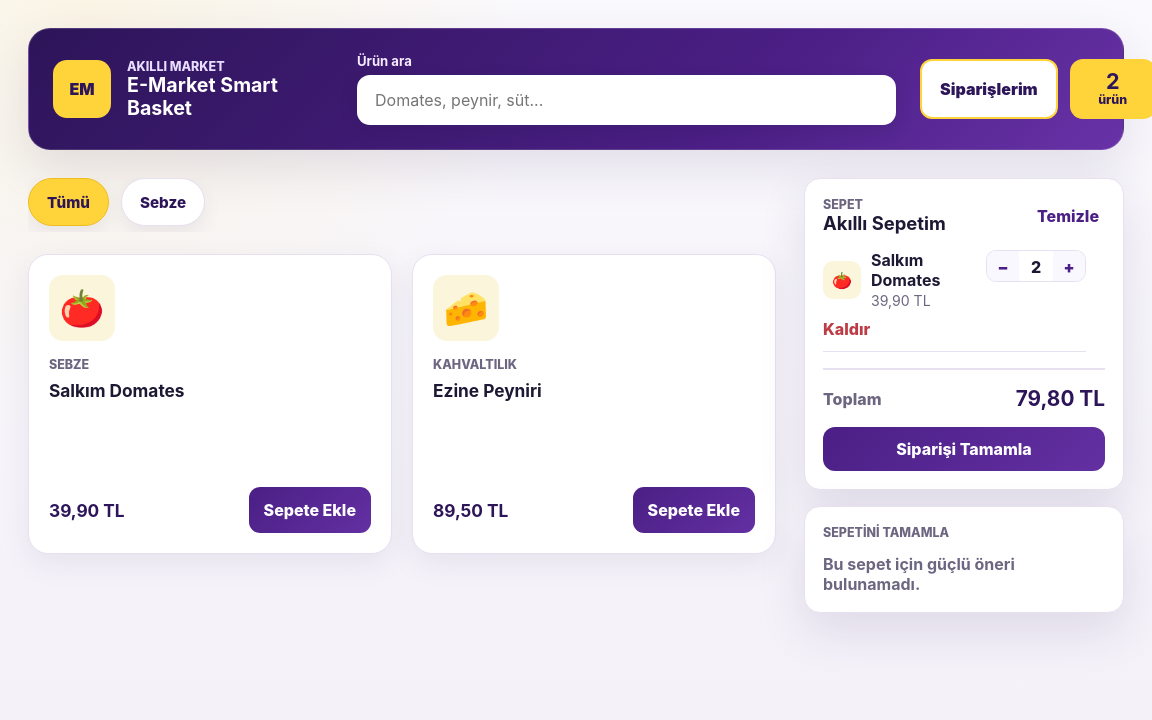
Test case: App checkout flow › keeps the cart when order creation fails
What coordinates should you click on to do the following:
click the button "Siparişi Tamamla"
I would click on:
 (964, 449)
Its box is [823,427,1105,471].
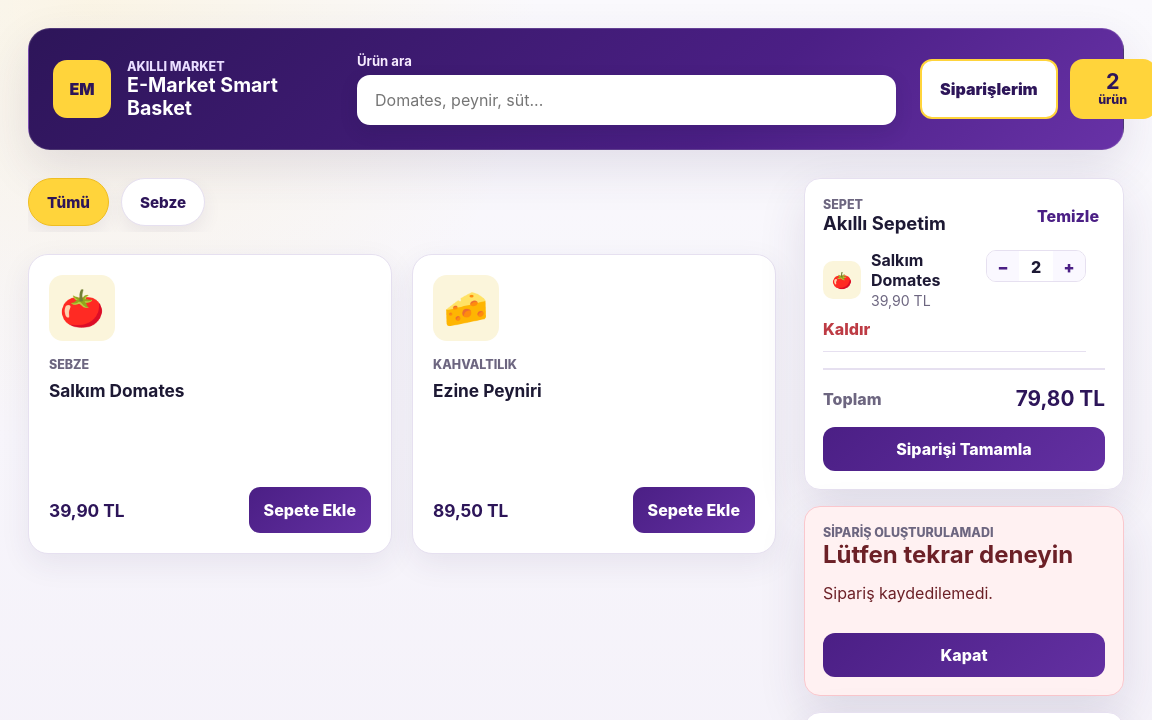
Expected: the text "Salkım Domates" is shown, [49,380,184,401]
Expected: the text "Sipariş kaydedilemedi." is shown, [823,583,993,603]
